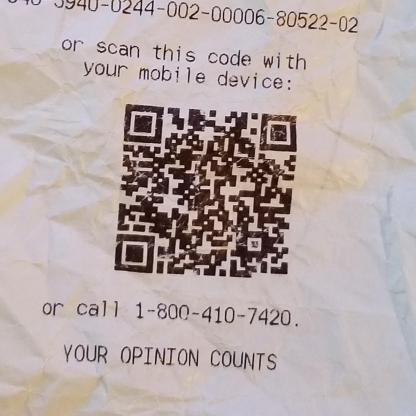qr: (111, 99, 302, 282)
